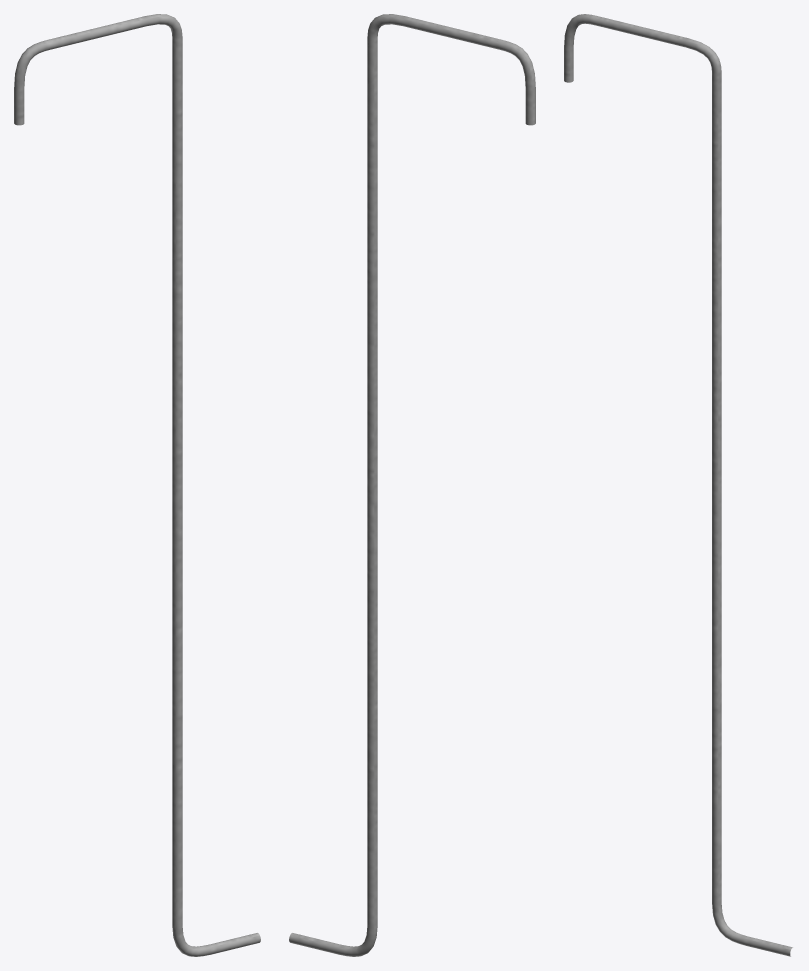
The model's file is connection_model.glb.
3 views of the same model, side by side, from view 1: azimuth 30°, elevation 25°; view 2: azimuth 150°, elevation 25°; view 3: azimuth 330°, elevation 25° (orthographic). The views are drawn at different scales.
Visible parts, largest first — view 1: connection; view 2: connection; view 3: connection.
Part boxes in pixels (bbox=[...]): connection: bbox=[14, 14, 260, 956]; connection: bbox=[289, 14, 535, 956]; connection: bbox=[564, 14, 792, 956].
Size of the model in its own units: 38.77 by 145 by 1.41.
1 material, 1 textured.
